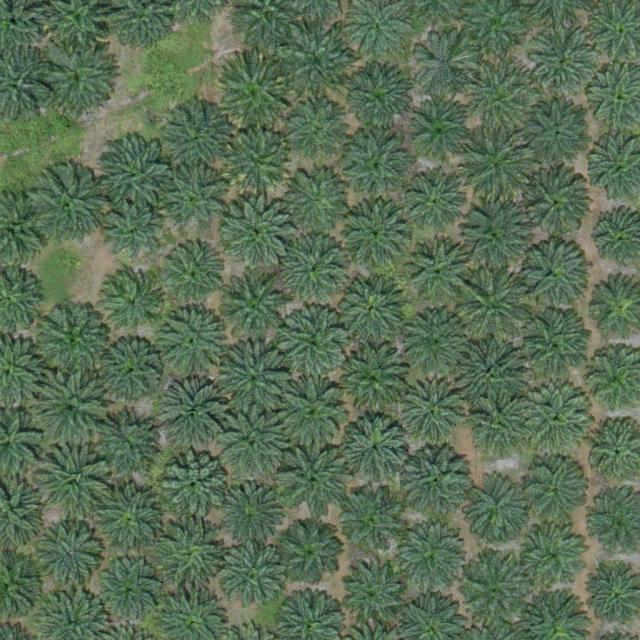Healthy: (41, 41, 119, 120), (515, 384, 593, 463), (95, 137, 173, 216), (29, 170, 107, 249), (33, 369, 111, 448), (34, 300, 112, 379), (151, 519, 229, 598), (36, 441, 114, 520), (344, 66, 415, 137), (224, 195, 295, 266), (155, 304, 226, 375), (521, 523, 592, 594), (461, 474, 532, 545), (342, 561, 413, 632), (279, 449, 350, 520), (214, 477, 285, 548), (282, 30, 352, 101), (462, 66, 532, 137), (531, 28, 601, 99), (520, 100, 590, 171), (520, 167, 590, 238), (517, 238, 587, 309), (520, 307, 590, 378), (463, 129, 533, 200), (460, 267, 530, 338), (340, 347, 410, 418), (281, 165, 351, 236), (282, 234, 352, 305), (222, 275, 293, 345), (219, 345, 289, 416), (156, 381, 226, 452), (277, 377, 347, 448), (520, 453, 590, 524), (459, 558, 530, 628), (337, 491, 407, 562), (397, 529, 467, 600), (402, 446, 472, 517), (220, 545, 290, 616), (161, 451, 231, 522), (459, 203, 529, 273), (455, 338, 525, 408), (398, 379, 468, 449), (338, 198, 408, 268), (336, 274, 406, 344), (281, 307, 351, 377), (218, 413, 288, 483), (342, 418, 412, 488), (96, 485, 166, 555), (285, 99, 348, 162), (170, 106, 233, 169), (160, 243, 223, 306), (100, 272, 163, 335), (99, 340, 162, 403), (280, 523, 343, 586), (97, 565, 160, 628), (42, 528, 105, 591), (408, 101, 470, 164), (404, 171, 466, 234), (406, 238, 468, 301), (405, 311, 467, 374), (346, 134, 408, 197), (163, 168, 225, 231), (102, 201, 164, 264), (90, 417, 152, 480), (412, 37, 474, 99), (473, 403, 520, 450)
Yellow: (216, 59, 294, 137), (227, 130, 289, 193)
